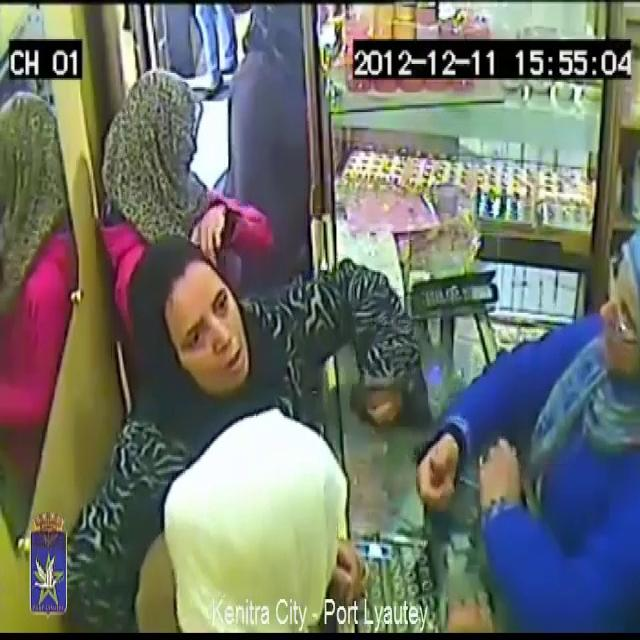normal: (466, 138, 639, 640), (139, 404, 407, 640), (160, 201, 290, 418), (112, 63, 221, 309), (228, 0, 314, 192)
